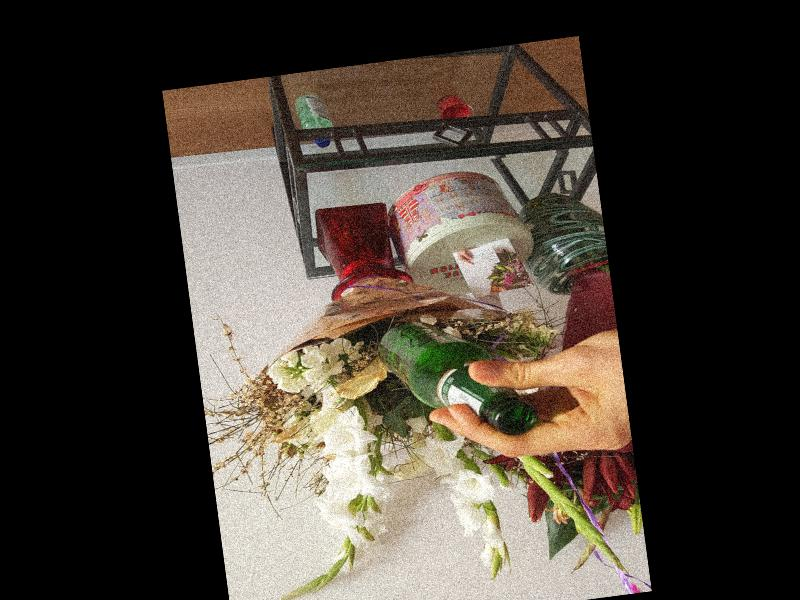Beer: (376, 308, 537, 451)
